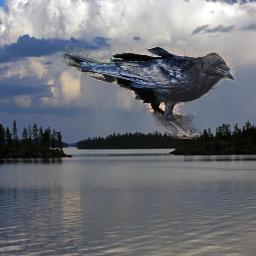Crow: (61, 46, 236, 139)
